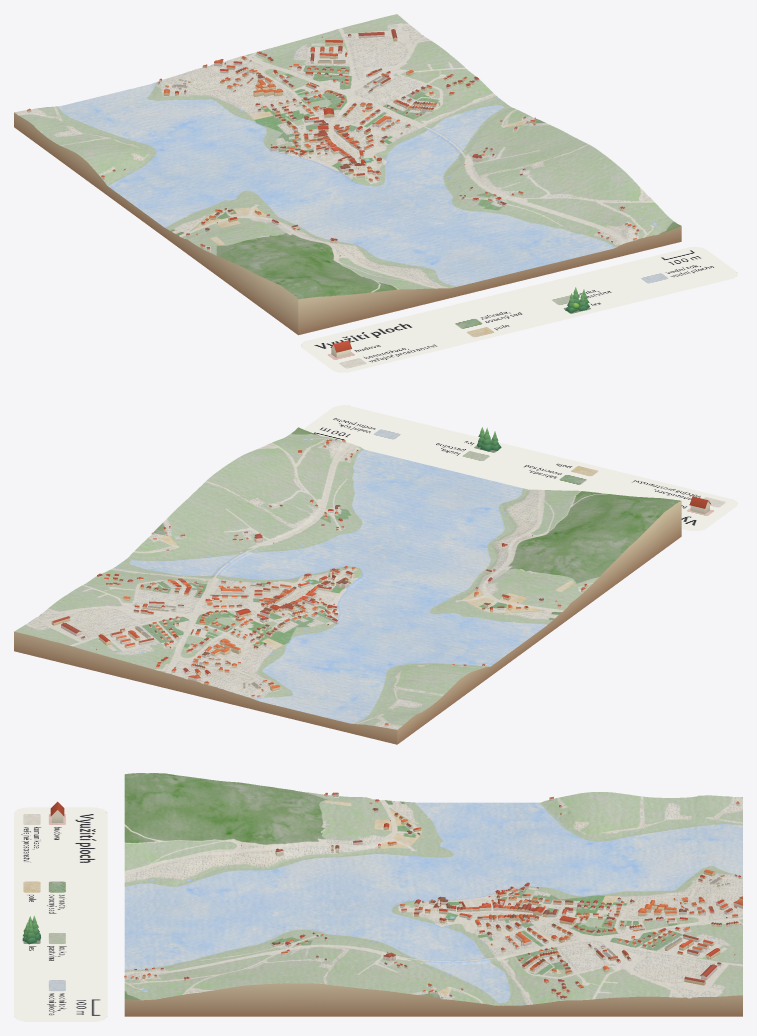
The model's file is Frymburk_base_RUIAN.glb.
3 views of the same model, one above another, from view 1: azimuth 30°, elevation 25°; view 2: azimuth 150°, elevation 25°; view 3: azimuth 270°, elevation 25° (orthographic). The views are drawn at different scales.
Parts seen in each view (by area): view 1: DMR_RUIAN, legenda_panel, budovy_RUIAN, legenda_objekty; view 2: DMR_RUIAN, legenda_panel, budovy_RUIAN, legenda_objekty; view 3: DMR_RUIAN, legenda_panel, budovy_RUIAN, legenda_objekty.
Boxes of the visible parts, left/top/right/bottom form: DMR_RUIAN: left=14, top=14, right=681, bottom=335; legenda_panel: left=301, top=247, right=737, bottom=372; budovy_RUIAN: left=27, top=29, right=639, bottom=256; legenda_objekty: left=330, top=287, right=589, bottom=357; DMR_RUIAN: left=14, top=427, right=681, bottom=744; legenda_panel: left=303, top=405, right=737, bottom=530; budovy_RUIAN: left=51, top=439, right=587, bottom=726; legenda_objekty: left=477, top=427, right=710, bottom=514; DMR_RUIAN: left=124, top=773, right=742, bottom=1016; legenda_panel: left=14, top=807, right=107, bottom=1021; budovy_RUIAN: left=124, top=792, right=742, bottom=999; legenda_objekty: left=22, top=801, right=64, bottom=944.
Bounding box in the file's own units: 1490 × 133 × 2140.
6 materials, 2 textured.
